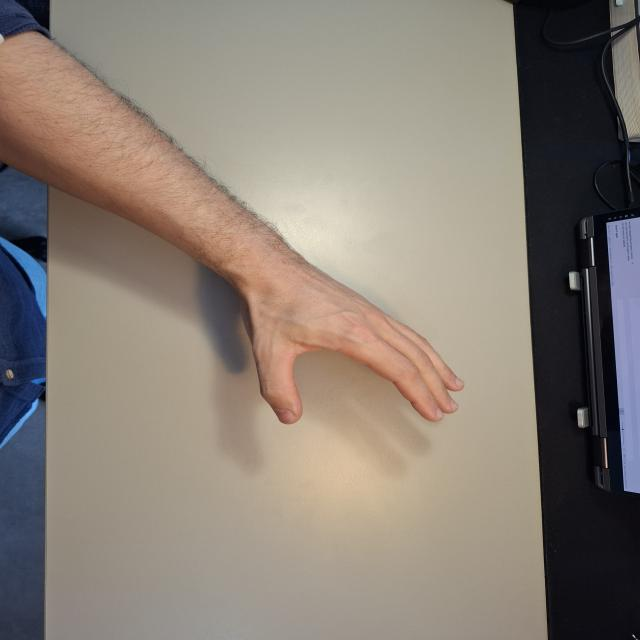glove_off: (234, 263, 466, 425)
